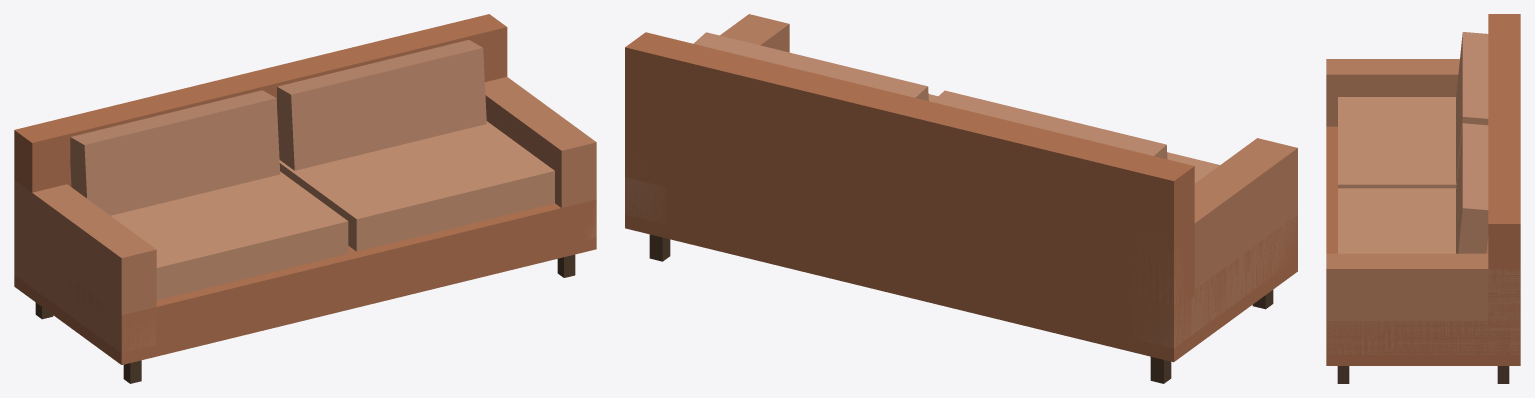
Rendered from sofa.glb.
3 views of the same model, side by side, from view 1: azimuth 30°, elevation 25°; view 2: azimuth 150°, elevation 25°; view 3: azimuth 270°, elevation 25° (orthographic). The views are drawn at different scales.
Size of the model in its own units: 2.3 by 0.85 by 0.9.
